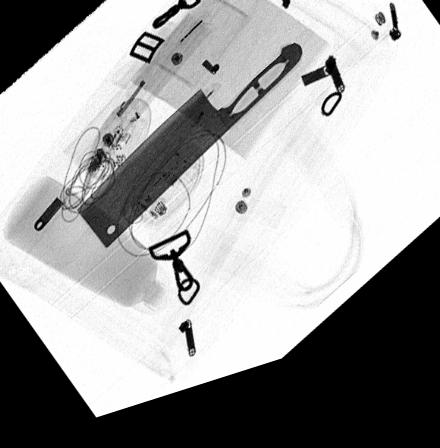Knife: (74, 59, 302, 255)
